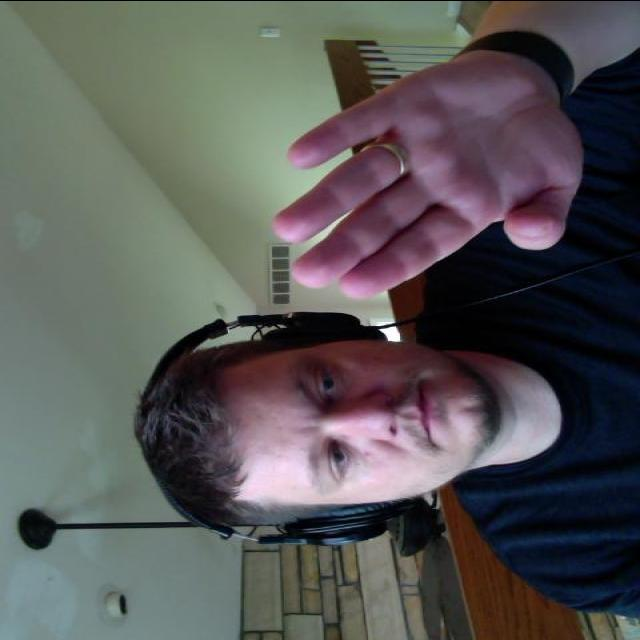Paper: (268, 39, 602, 305)
